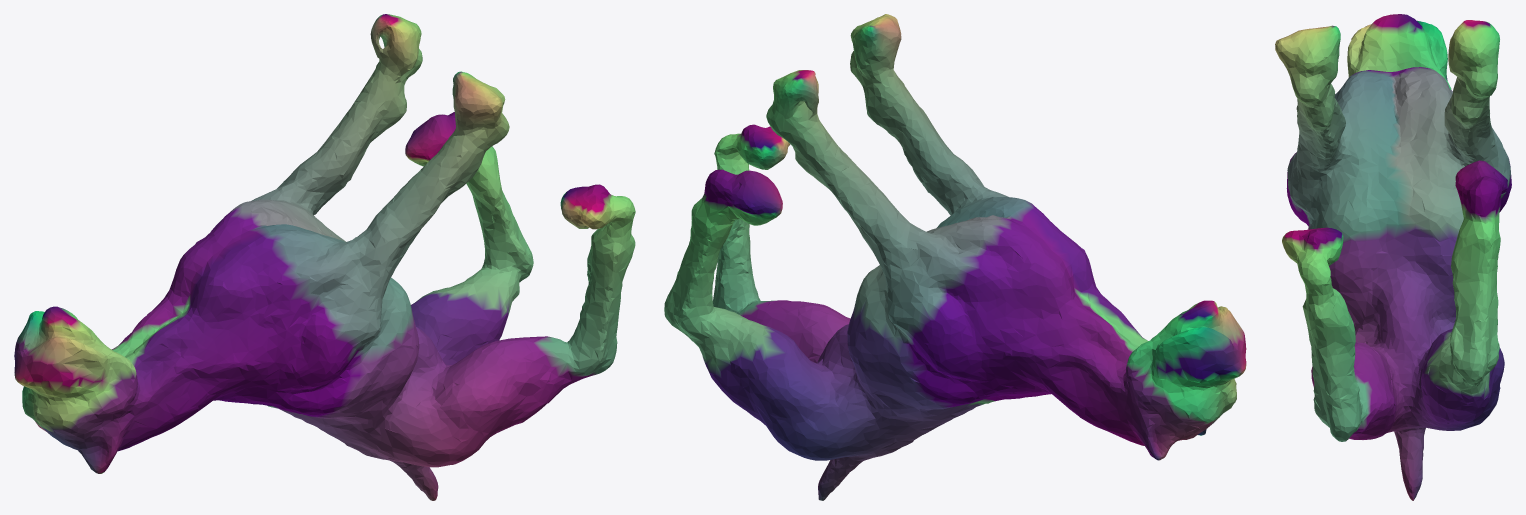
The model's file is dog1-2.off.obj.
The picture shows the model from 3 angles, left to right: view 1: azimuth 30°, elevation 25°; view 2: azimuth 150°, elevation 25°; view 3: azimuth 270°, elevation 25°; orthographic projection. The views are drawn at different scales.
Bounding box in the file's own units: 1.6 × 1.22 × 0.557.
